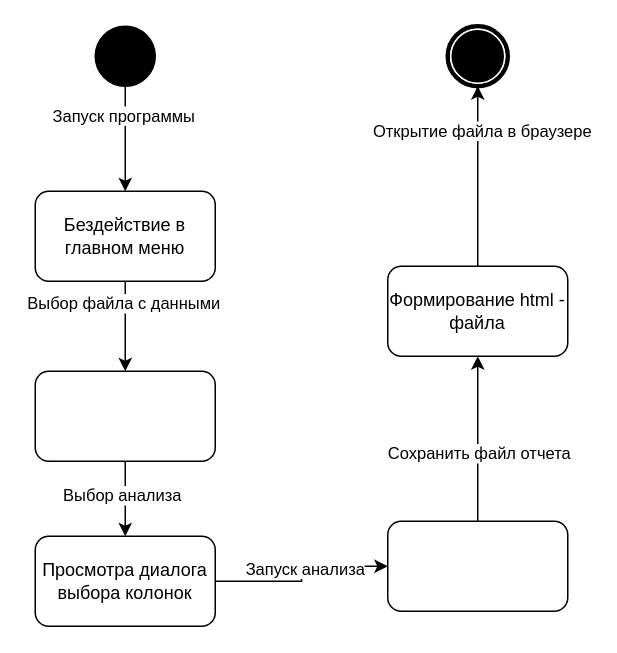
This 617x653 diagram has some shape labels left out. Each missing label, with the centre of its shape:
"Бездействие в диалоге результатов" goes at (x=477, y=565).
"Просмотр диалога исходных данных" goes at (x=124, y=415).
